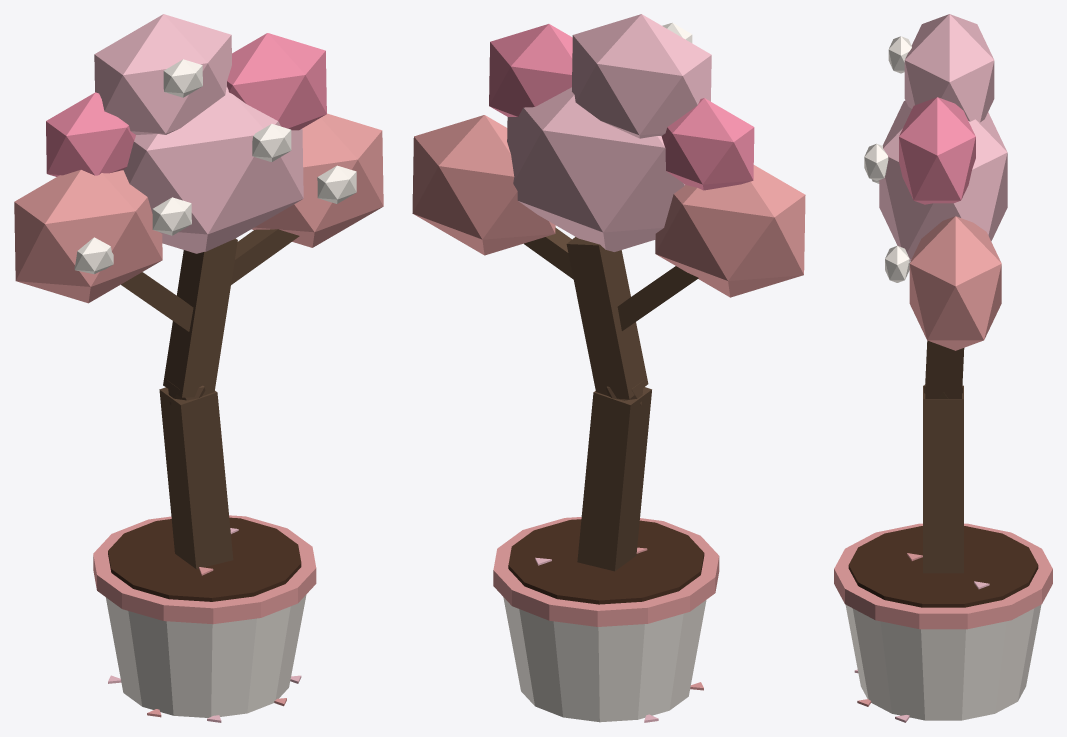
Rendered from CatCafe_Decor_BlossomTree.glb.
The picture shows the model from 3 angles, left to right: view 1: azimuth 30°, elevation 25°; view 2: azimuth 150°, elevation 25°; view 3: azimuth 270°, elevation 25°; orthographic projection. The views are drawn at different scales.
Parts seen in each view (by area): view 1: CatCafe_Decor_BlossomTree_Canopy, CatCafe_Decor_BlossomTree; view 2: CatCafe_Decor_BlossomTree_Canopy, CatCafe_Decor_BlossomTree; view 3: CatCafe_Decor_BlossomTree, CatCafe_Decor_BlossomTree_Canopy.
Part boxes in pixels (x1=…): CatCafe_Decor_BlossomTree_Canopy: x1=14, y1=14, x2=383, y2=303; CatCafe_Decor_BlossomTree: x1=93, y1=229, x2=316, y2=722; CatCafe_Decor_BlossomTree_Canopy: x1=412, y1=14, x2=805, y2=297; CatCafe_Decor_BlossomTree: x1=493, y1=227, x2=719, y2=722; CatCafe_Decor_BlossomTree: x1=834, y1=340, x2=1052, y2=722; CatCafe_Decor_BlossomTree_Canopy: x1=864, y1=14, x2=1007, y2=350.
Size of the model in its own units: 3.46 by 5.94 by 1.8.
Materials: 1 (1 with a texture image).
